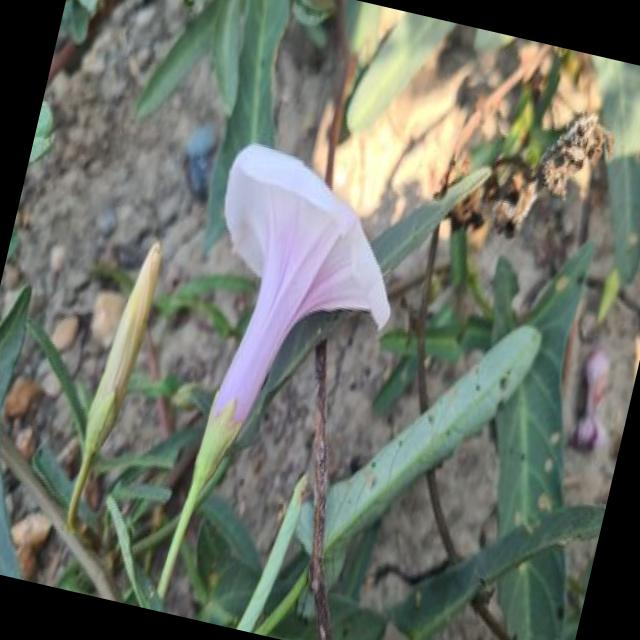ipomoea: (127, 130, 424, 636)
